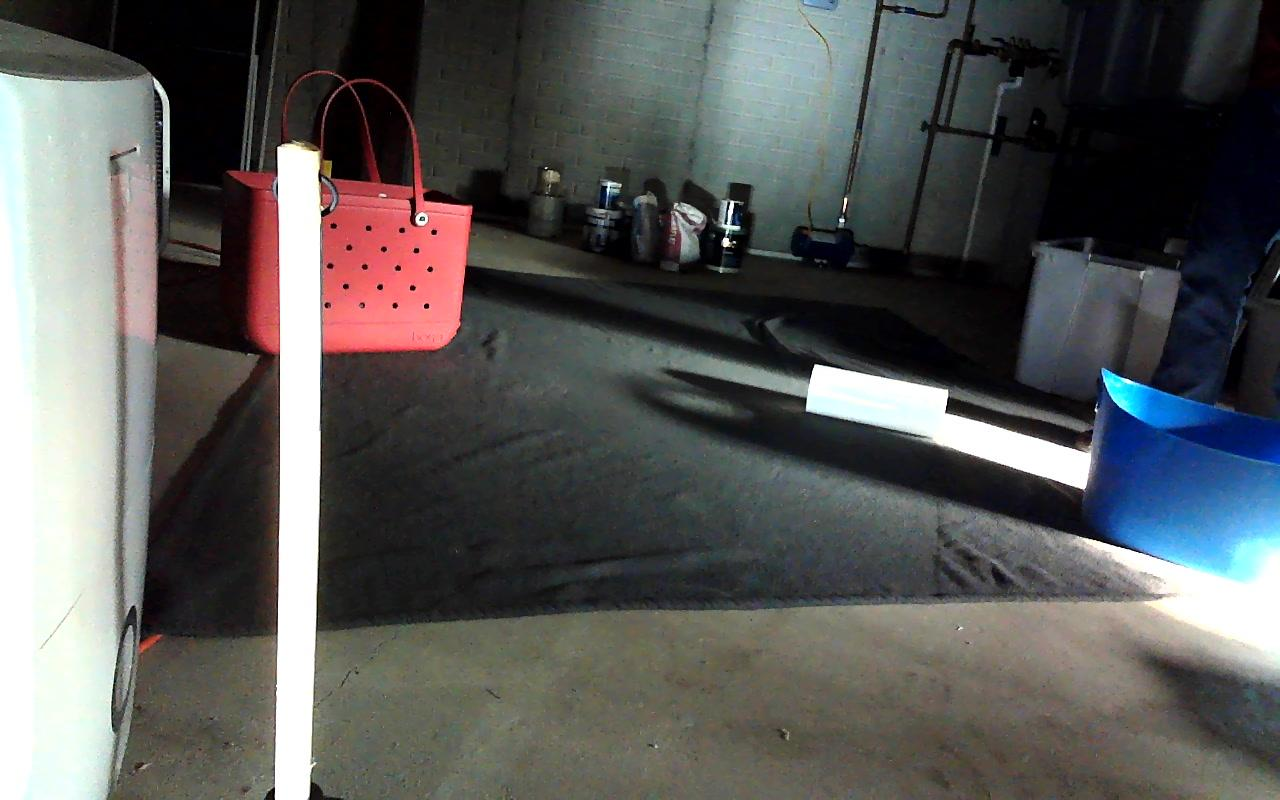coral: (805, 363, 948, 438)
